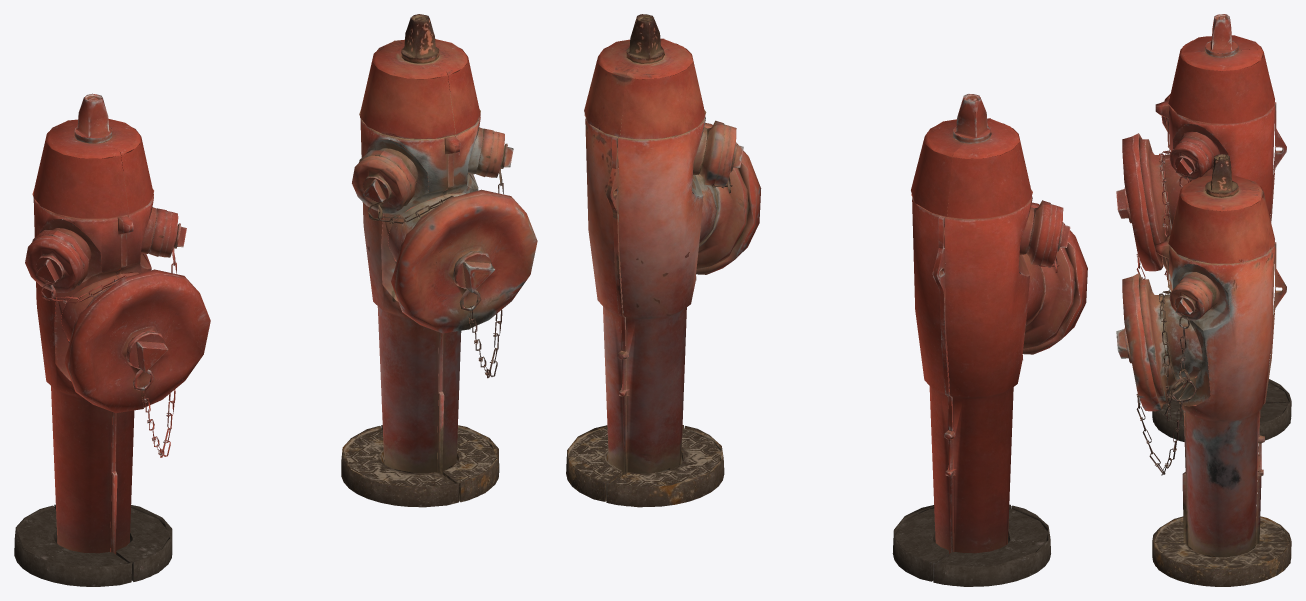
The model's file is fire_hydrant.glb.
3 renders of one model, left to right at view 1: azimuth 30°, elevation 25°; view 2: azimuth 150°, elevation 25°; view 3: azimuth 270°, elevation 25°, orthographic. The views are drawn at different scales.
Parts seen in each view (by area): view 1: fire_hydrant, fire_hydrant_aged, fire_hydrant_cap_01_aged, fire_hydrant_cap_01, fire_hydrant_cap_03_aged, fire_hydrant_cap_03, fire_hydrant_chain_aged, fire_hydrant_chain, fire_hydrant_cap_02, fire_hydrant_cap_02_aged; view 2: fire_hydrant_aged, fire_hydrant, fire_hydrant_cap_01, fire_hydrant_cap_01_aged, fire_hydrant_cap_03_aged, fire_hydrant_cap_03; view 3: fire_hydrant_aged, fire_hydrant, fire_hydrant_cap_01, fire_hydrant_cap_01_aged, fire_hydrant_chain_aged, fire_hydrant_cap_02_aged, fire_hydrant_cap_02, fire_hydrant_chain.
Boxes of the visible parts, x1=… form: fire_hydrant: x1=14, y1=93, x2=172, y2=586; fire_hydrant_aged: x1=341, y1=14, x2=499, y2=507; fire_hydrant_cap_01_aged: x1=391, y1=189, x2=537, y2=333; fire_hydrant_cap_01: x1=64, y1=269, x2=210, y2=413; fire_hydrant_cap_03_aged: x1=352, y1=155, x2=410, y2=213; fire_hydrant_cap_03: x1=25, y1=235, x2=84, y2=292; fire_hydrant_chain_aged: x1=368, y1=146, x2=504, y2=378; fire_hydrant_chain: x1=41, y1=226, x2=178, y2=457; fire_hydrant_cap_02: x1=158, y1=211, x2=186, y2=257; fire_hydrant_cap_02_aged: x1=485, y1=131, x2=513, y2=177; fire_hydrant_aged: x1=566, y1=14, x2=749, y2=507; fire_hydrant: x1=892, y1=94, x2=1076, y2=586; fire_hydrant_cap_01: x1=1023, y1=202, x2=1087, y2=354; fire_hydrant_cap_01_aged: x1=696, y1=123, x2=761, y2=274; fire_hydrant_cap_03_aged: x1=714, y1=124, x2=743, y2=187; fire_hydrant_cap_03: x1=1041, y1=204, x2=1070, y2=266; fire_hydrant_aged: x1=1139, y1=154, x2=1291, y2=586; fire_hydrant: x1=1139, y1=14, x2=1291, y2=441; fire_hydrant_cap_01: x1=1116, y1=133, x2=1163, y2=271; fire_hydrant_cap_01_aged: x1=1116, y1=273, x2=1163, y2=411; fire_hydrant_chain_aged: x1=1136, y1=289, x2=1196, y2=475; fire_hydrant_cap_02_aged: x1=1169, y1=281, x2=1209, y2=320; fire_hydrant_cap_02: x1=1169, y1=141, x2=1209, y2=180; fire_hydrant_chain: x1=1136, y1=149, x2=1195, y2=280.
Size of the model in its own units: 0.8742 by 0.8008 by 0.3177.
2 materials, 2 textured.
